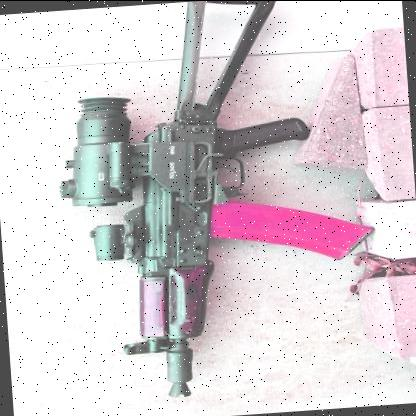rifle: (30, 0, 374, 405)
